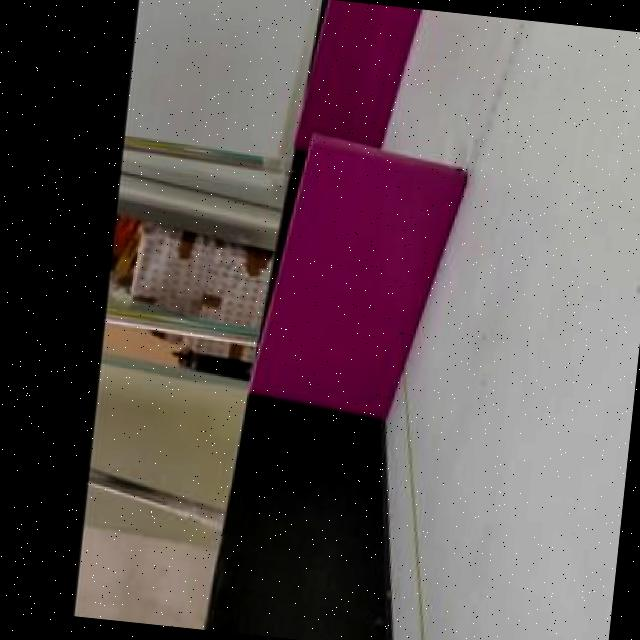xparking: (280, 151, 460, 408), (316, 0, 413, 133)
